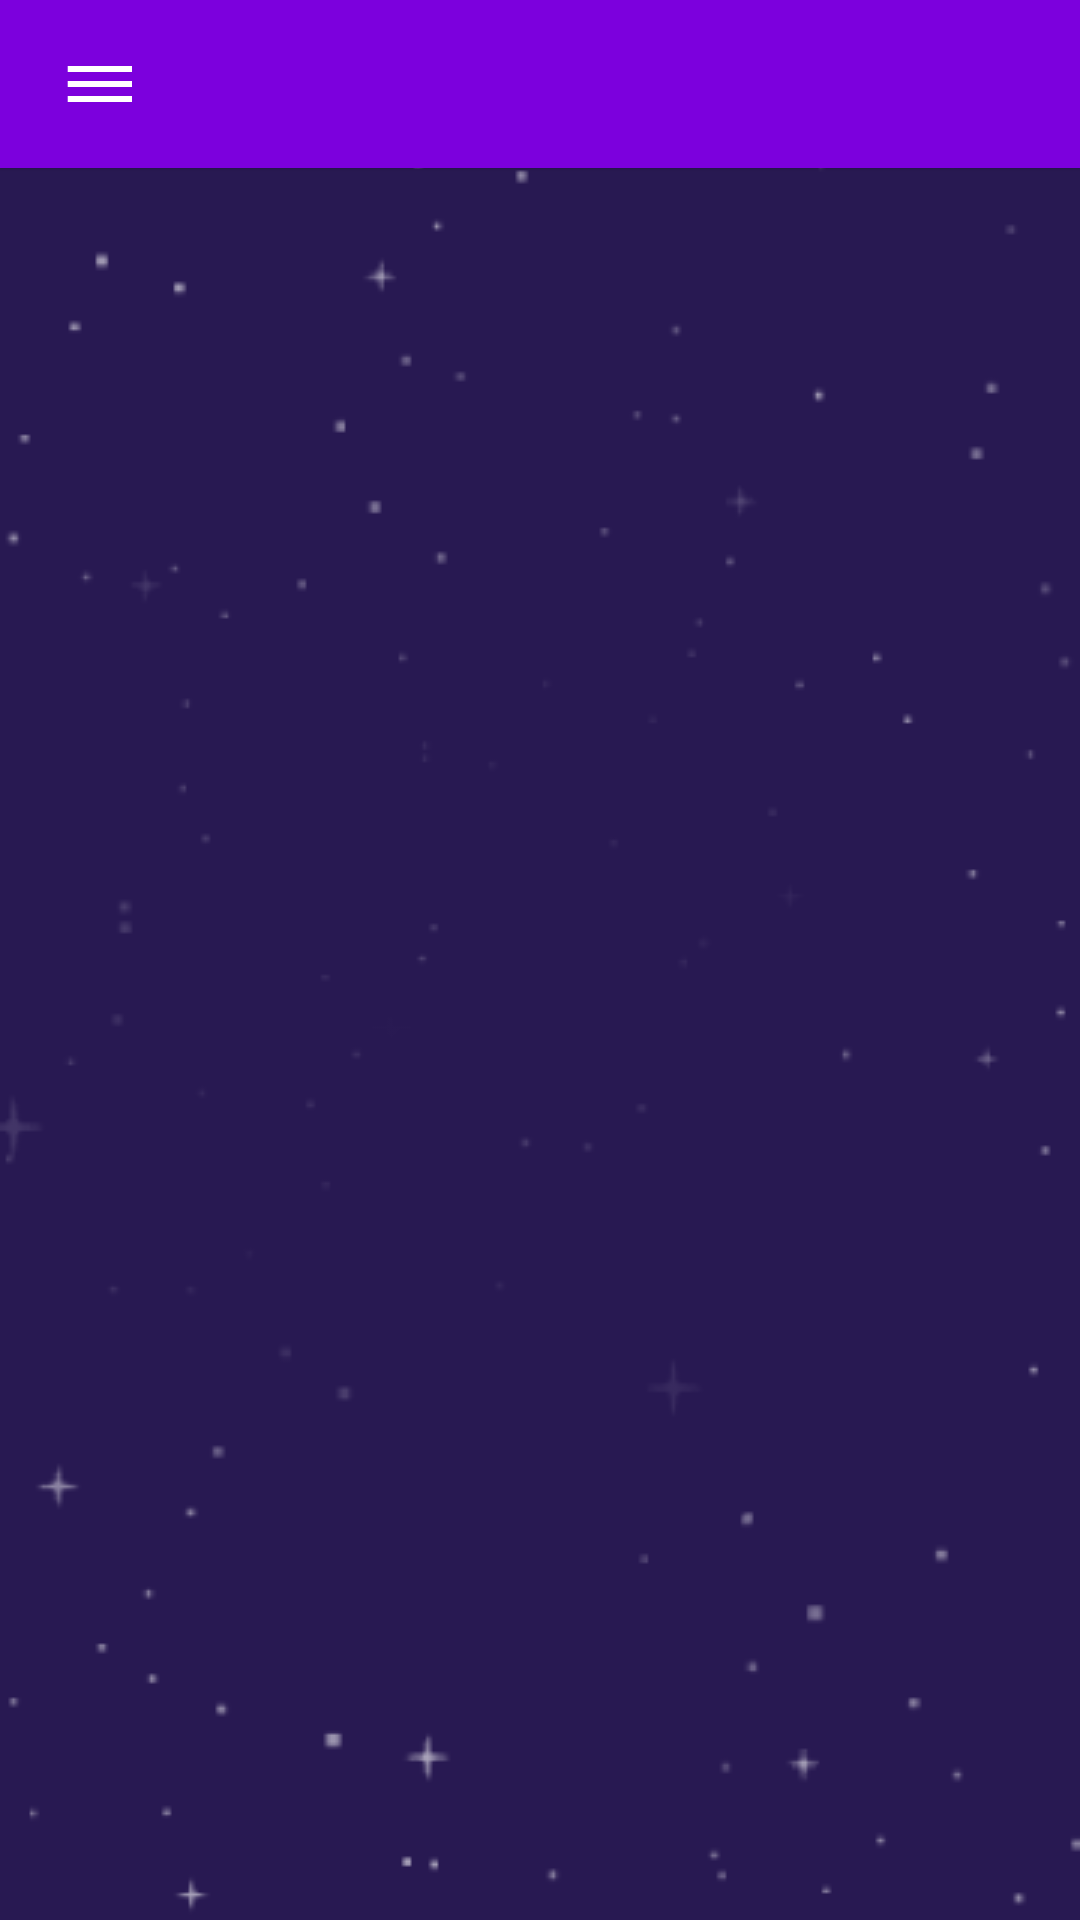

Icons on this 1080 x 1920 Android screen, each with its box as (left=x1, top=y1, right=x2, bottom=y2):
menu: (left=67, top=66, right=132, bottom=102)
